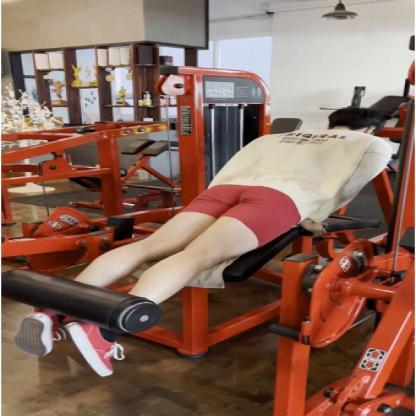reg curl machine: (3, 63, 414, 382)
